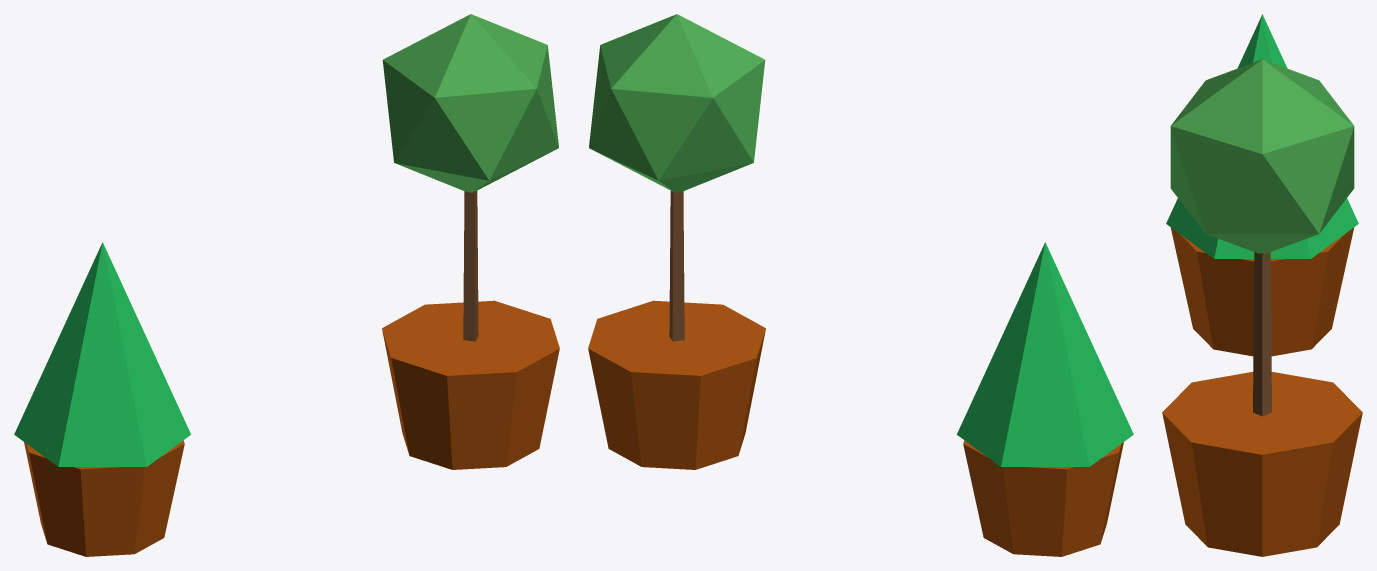
The model's file is bibit_pot_v001.glb.
3 views of the same model, side by side, from view 1: azimuth 30°, elevation 25°; view 2: azimuth 150°, elevation 25°; view 3: azimuth 270°, elevation 25° (orthographic). The views are drawn at different scales.
Parts seen in each view (by area): view 1: Bibit_Pot_B, Bibit_Pot_A; view 2: Bibit_Pot_B, Bibit_Pot_A; view 3: Bibit_Pot_B, Bibit_Pot_A.
Boxes of the visible parts, x1,y1,x2,y2 form: Bibit_Pot_B: (382,14,559,469); Bibit_Pot_A: (14,242,190,556); Bibit_Pot_B: (588,14,765,469); Bibit_Pot_A: (957,242,1133,556); Bibit_Pot_B: (1162,59,1362,556); Bibit_Pot_A: (1166,14,1358,356).
Size of the model in its own units: 1.7 by 1.33 by 0.52.
